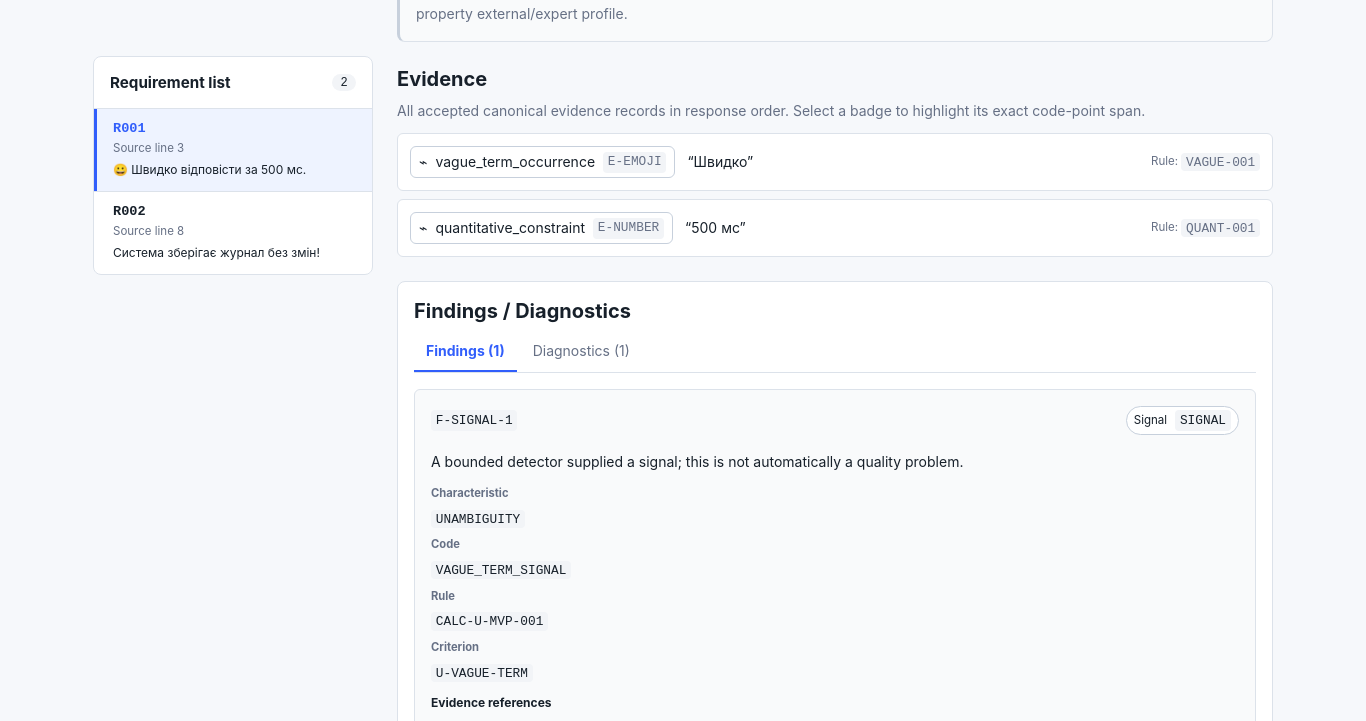
Scenario: RUI-08 Requirements page › keeps diagnostics distinct and never turns a candidate span into Evidence
The image size is (1366, 721).
(page scrolled)
Step 1. Click the tab "Diagnostics (1)" → (581, 352), box x1=521 y1=332 x2=642 y2=372
(page scrolled)
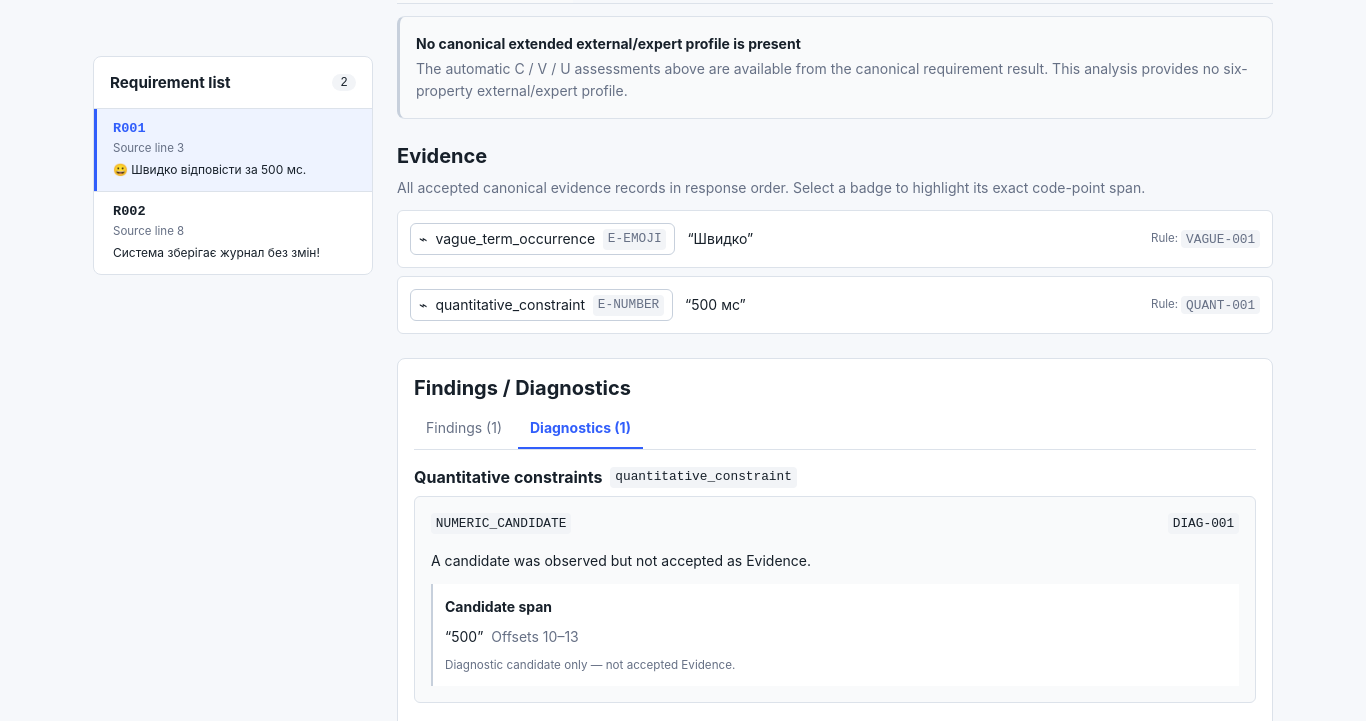
Expected: the text "NUMERIC_CANDIDATE" is shown, x1=431 y1=513 x2=571 y2=534
Expected: the text "500" is shown, x1=445 y1=626 x2=483 y2=648
Expected: the text "Diagnostic candidate only — not accepted Evidence." is shown, x1=445 y1=658 x2=735 y2=672
